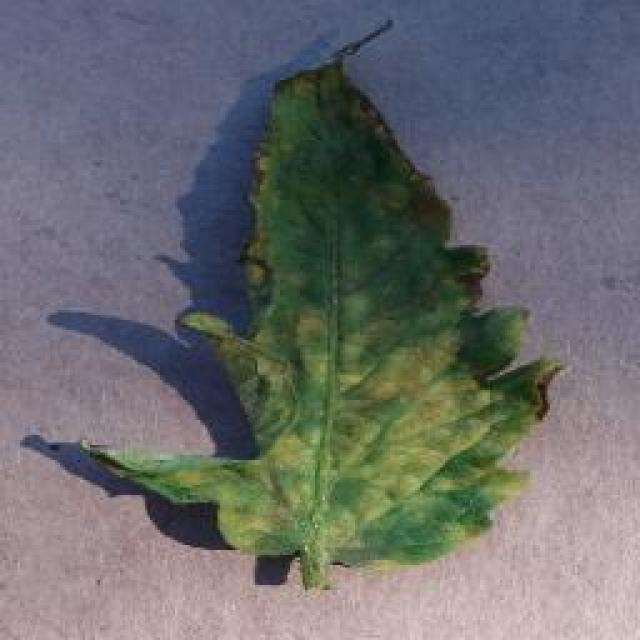Tomato___Leaf_Mold: (82, 20, 560, 588)
